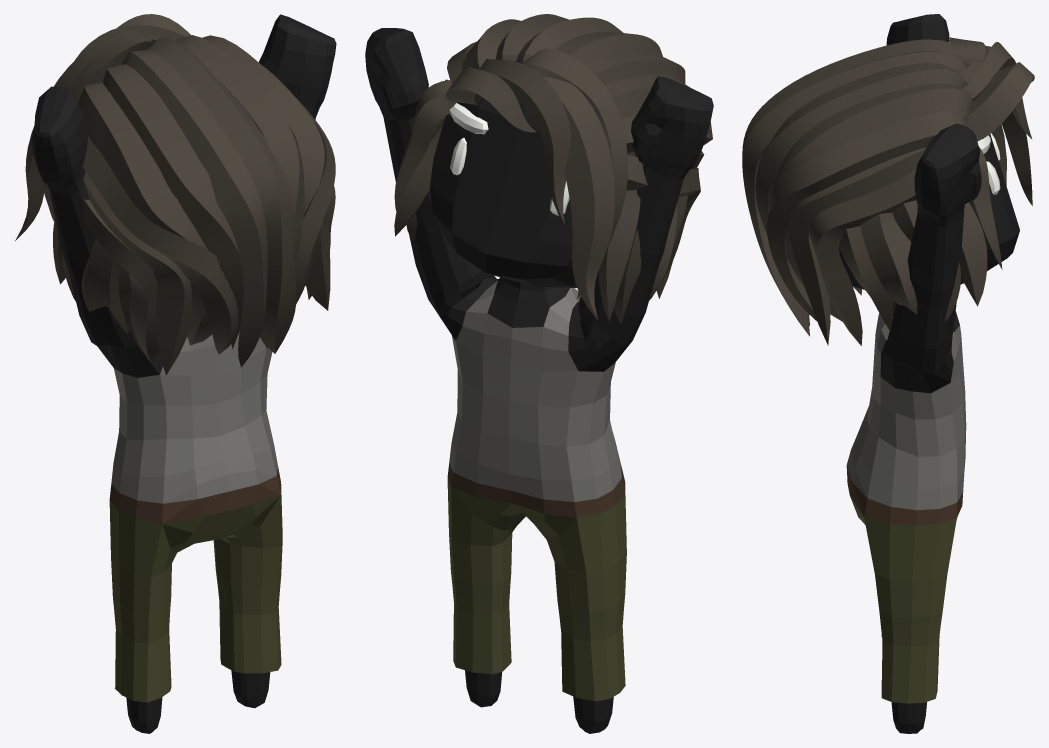
The model's file is Moun_Casual3_Female_Cheer.fbx.
3 views of the same model, side by side, from view 1: azimuth 30°, elevation 25°; view 2: azimuth 150°, elevation 25°; view 3: azimuth 270°, elevation 25° (orthographic). The views are drawn at different scales.
Parts seen in each view (by area): view 1: Moun_Casual3_Female_Cheer; view 2: Moun_Casual3_Female_Cheer; view 3: Moun_Casual3_Female_Cheer.
Part boxes in pixels (<box>): Moun_Casual3_Female_Cheer: <box>15,14,336,733</box>; Moun_Casual3_Female_Cheer: <box>365,14,713,733</box>; Moun_Casual3_Female_Cheer: <box>742,14,1034,733</box>.
Bounding box in the file's own units: 0.826 × 1.68 × 0.6855.
